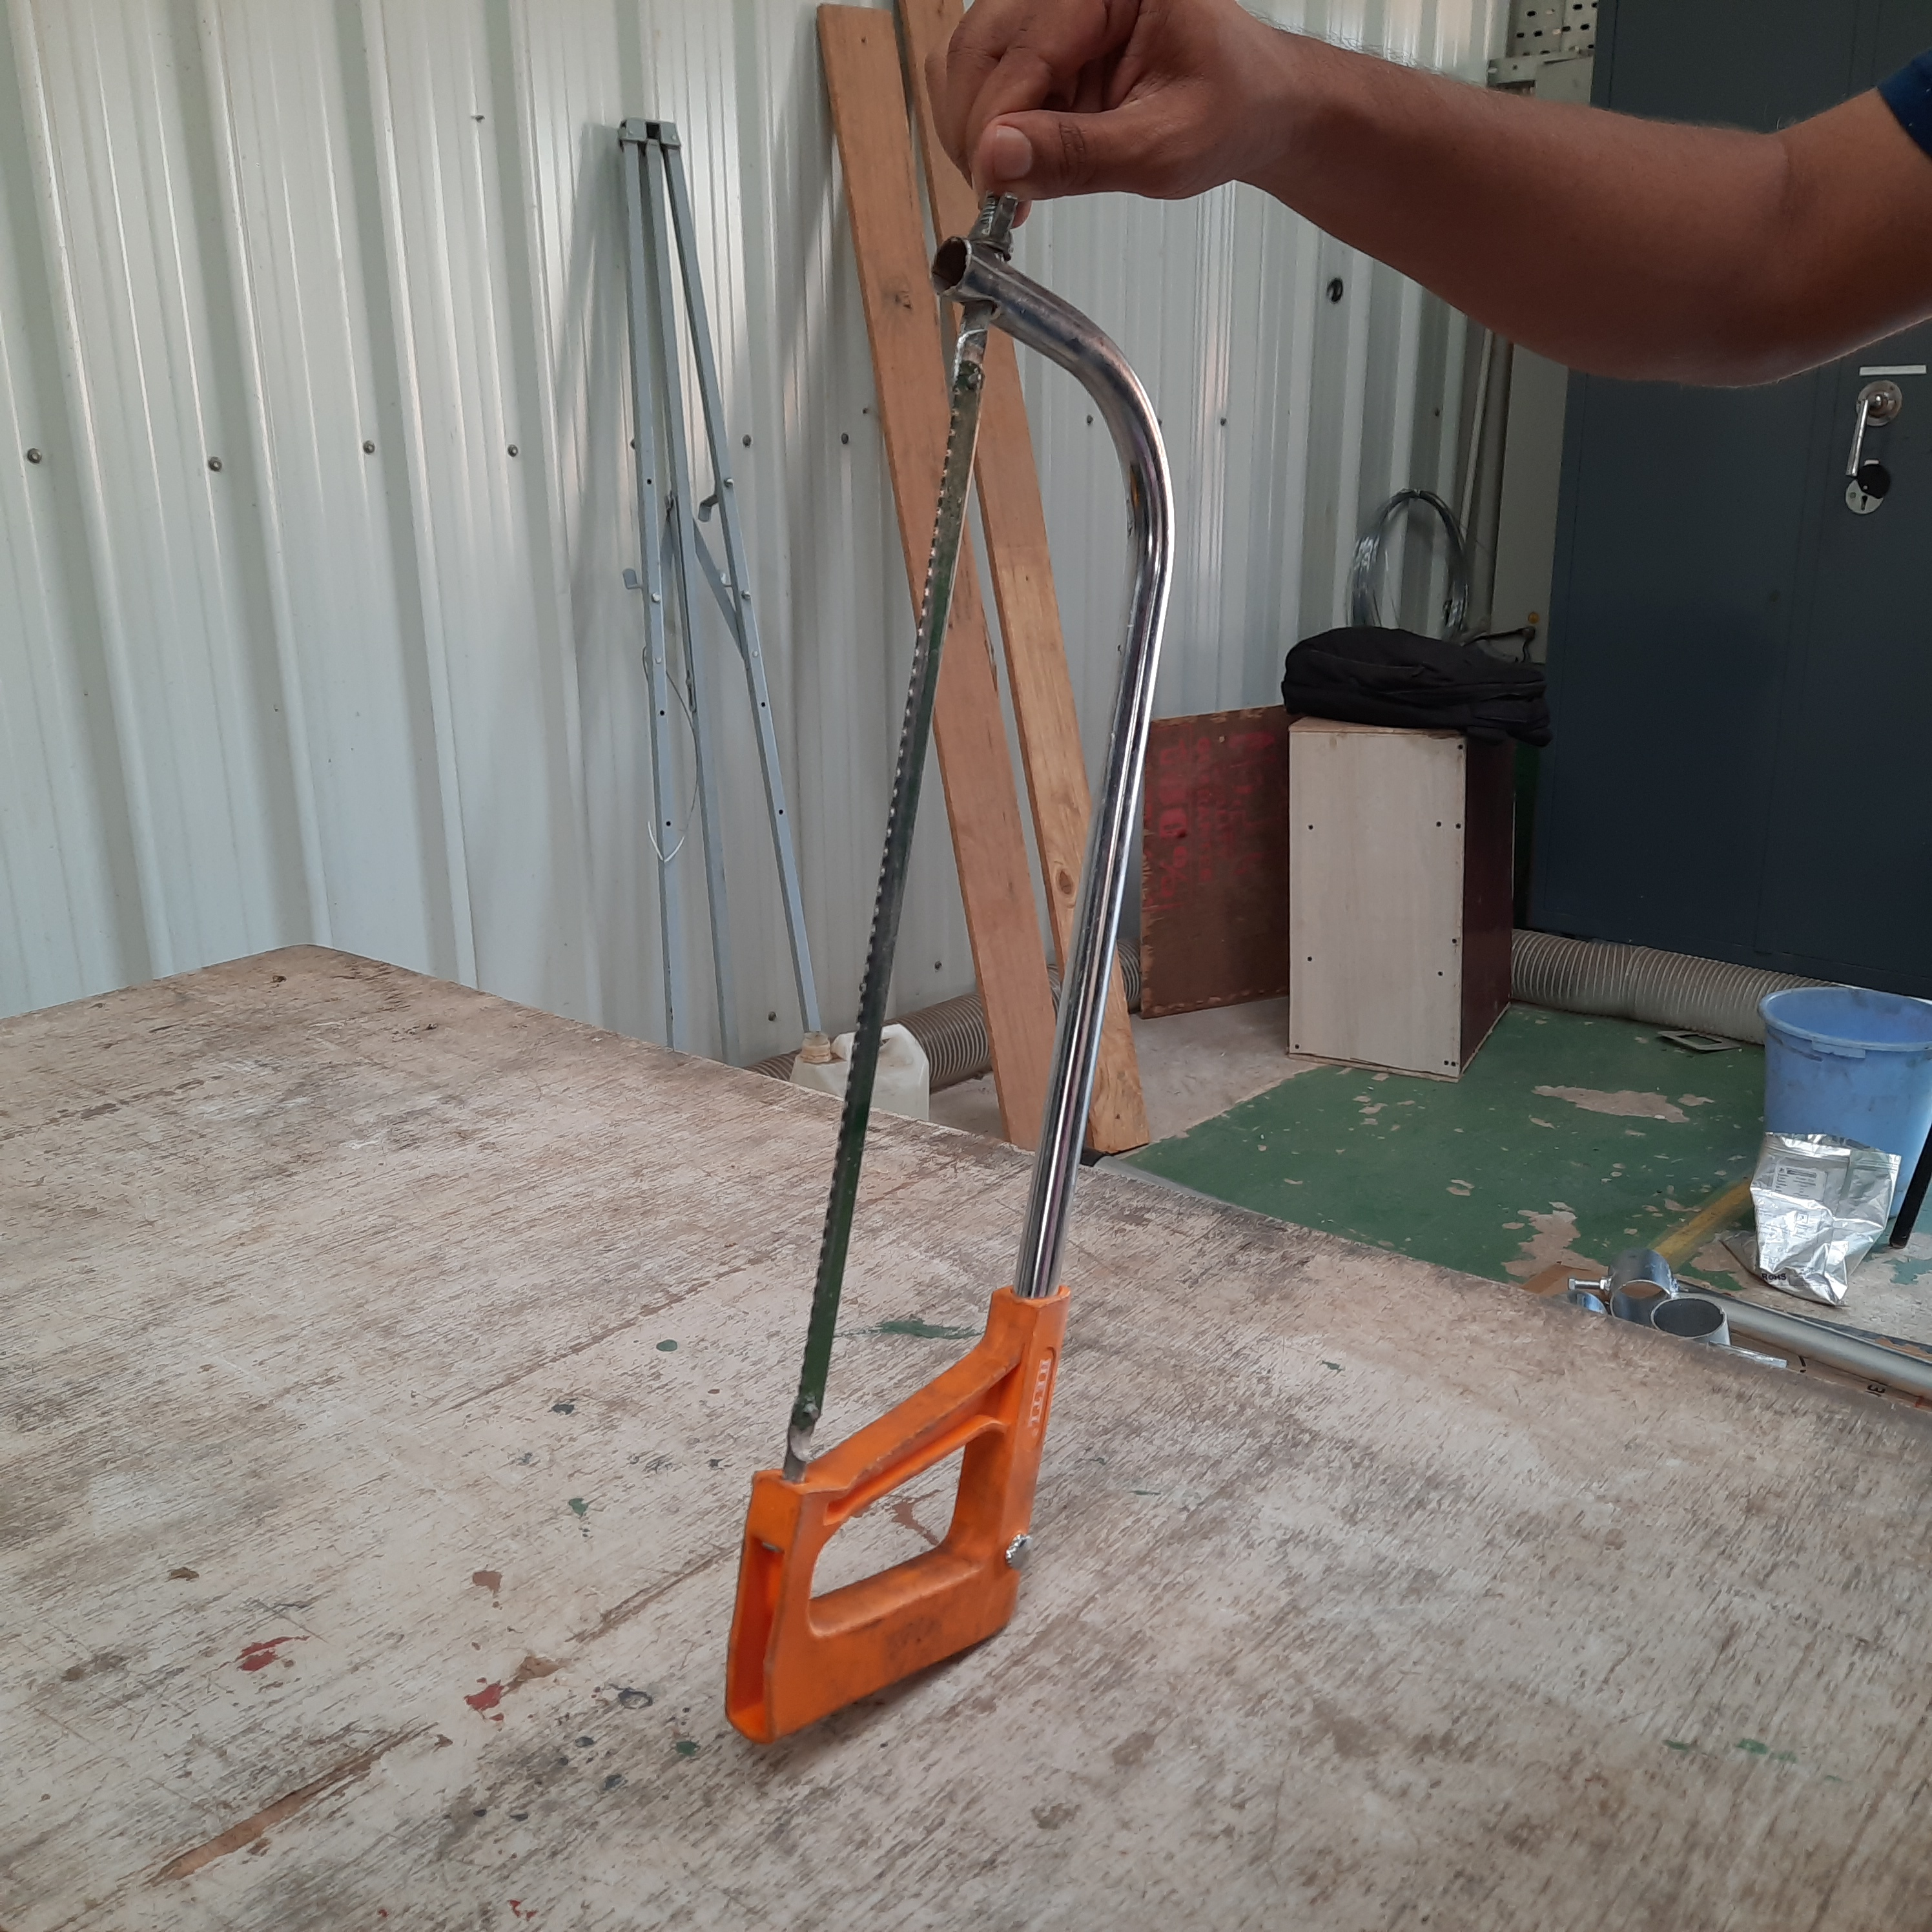Hexaframe: (674, 138, 1198, 1755)
